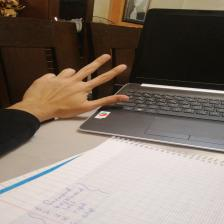three: (17, 54, 136, 120)
